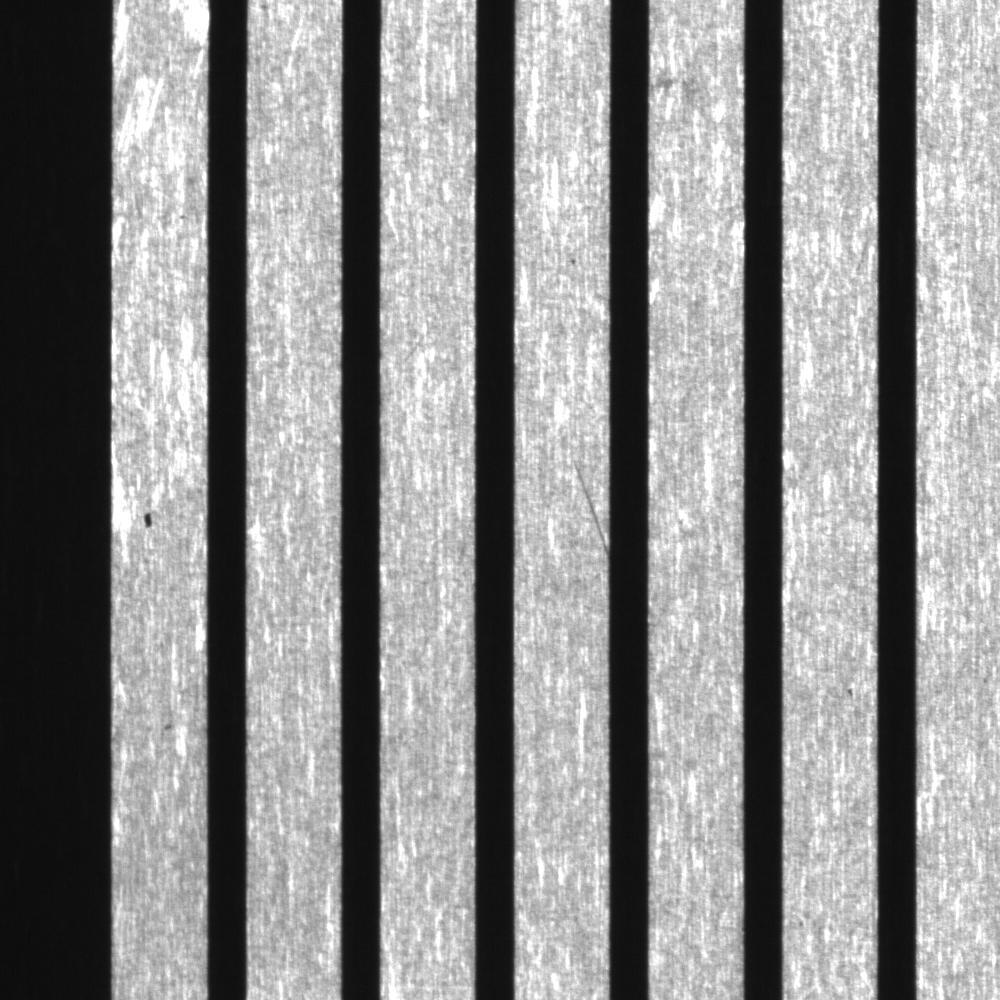Etching: (130, 502, 162, 542), (157, 709, 179, 744), (839, 681, 862, 703)
Pinhole: (556, 248, 592, 275)
Scar: (559, 448, 610, 563)
